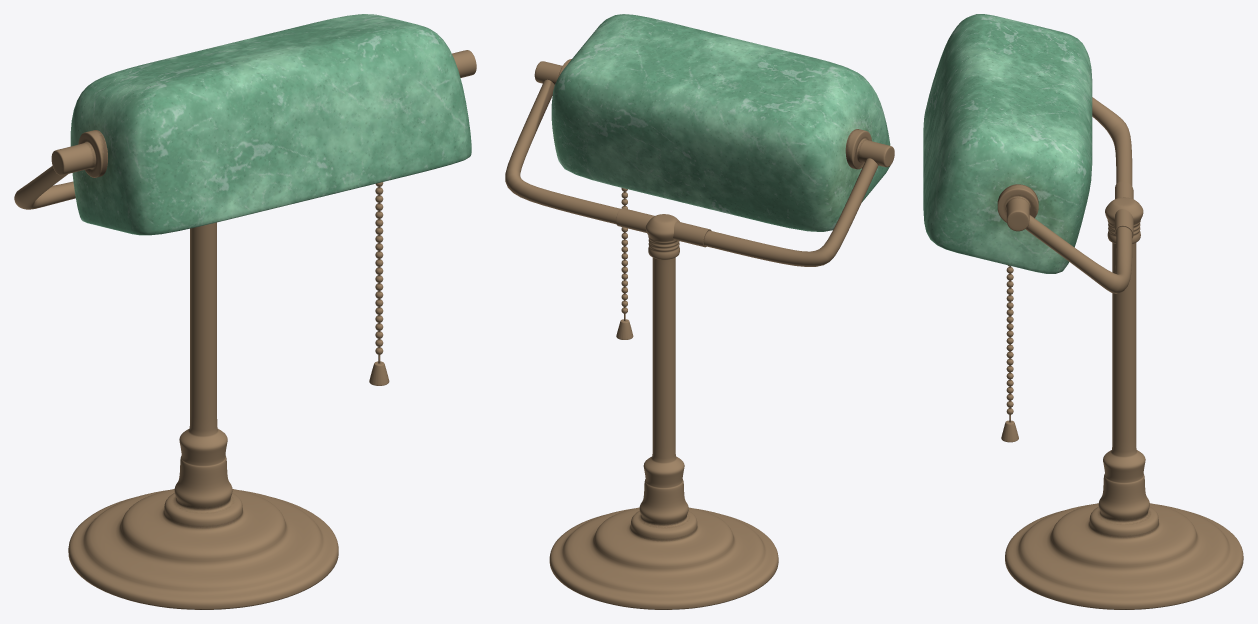
Rendered from VintageLamp.fbx.
The picture shows the model from 3 angles, left to right: view 1: azimuth 30°, elevation 25°; view 2: azimuth 150°, elevation 25°; view 3: azimuth 270°, elevation 25°; orthographic projection. The views are drawn at different scales.
Parts seen in each view (by area): view 1: defaultMaterial.038, defaultMaterial.040, defaultMaterial.036, defaultMaterial.039; view 2: defaultMaterial.038, defaultMaterial.040, defaultMaterial.039, defaultMaterial.036, defaultMaterial.037; view 3: defaultMaterial.038, defaultMaterial.040, defaultMaterial.039, defaultMaterial.037.
Part boxes in pixels (left/top/right/bottom): defaultMaterial.038: left=70, top=14, right=471, bottom=235; defaultMaterial.040: left=68, top=222, right=338, bottom=609; defaultMaterial.036: left=51, top=130, right=107, bottom=177; defaultMaterial.039: left=14, top=166, right=75, bottom=209; defaultMaterial.038: left=551, top=14, right=890, bottom=231; defaultMaterial.040: left=549, top=214, right=778, bottom=609; defaultMaterial.039: left=505, top=79, right=878, bottom=266; defaultMaterial.036: left=845, top=129, right=894, bottom=169; defaultMaterial.037: left=534, top=59, right=571, bottom=84; defaultMaterial.038: left=923, top=14, right=1092, bottom=273; defaultMaterial.040: left=1005, top=197, right=1243, bottom=609; defaultMaterial.039: left=1025, top=97, right=1133, bottom=293; defaultMaterial.037: left=997, top=184, right=1038, bottom=231.
Bounding box in the file's own units: 156 × 201 × 118.
1 material, 1 textured.
